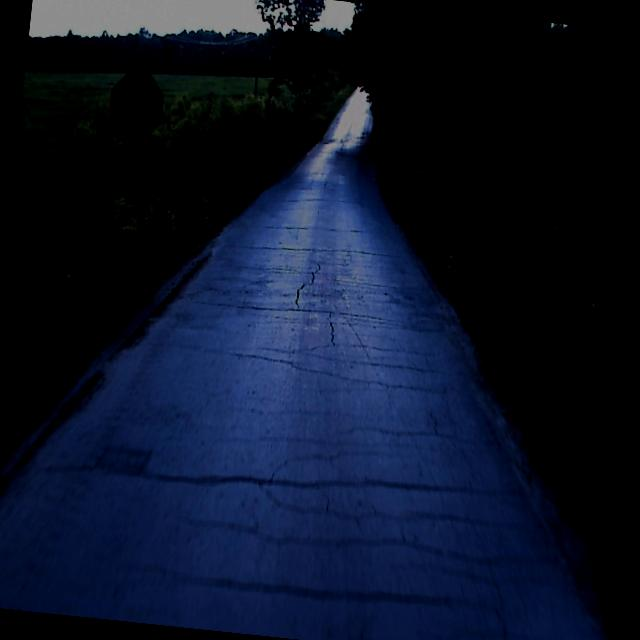road: (0, 88, 612, 640)
